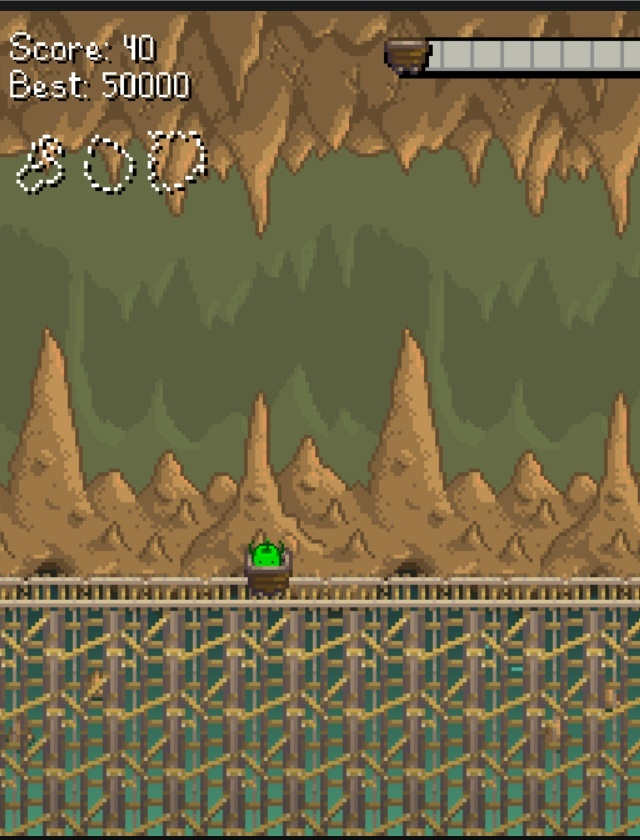minecart: (244, 540, 290, 594)
tracks: (304, 571, 640, 611), (0, 570, 234, 610)
